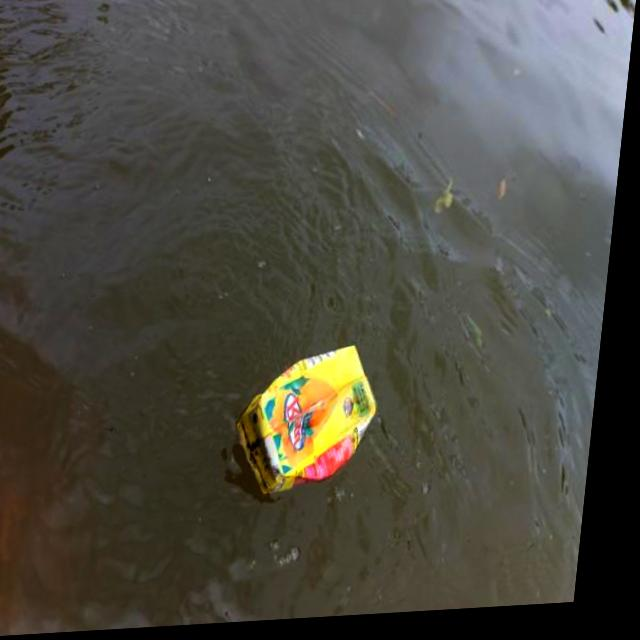paper: (233, 334, 395, 520)
